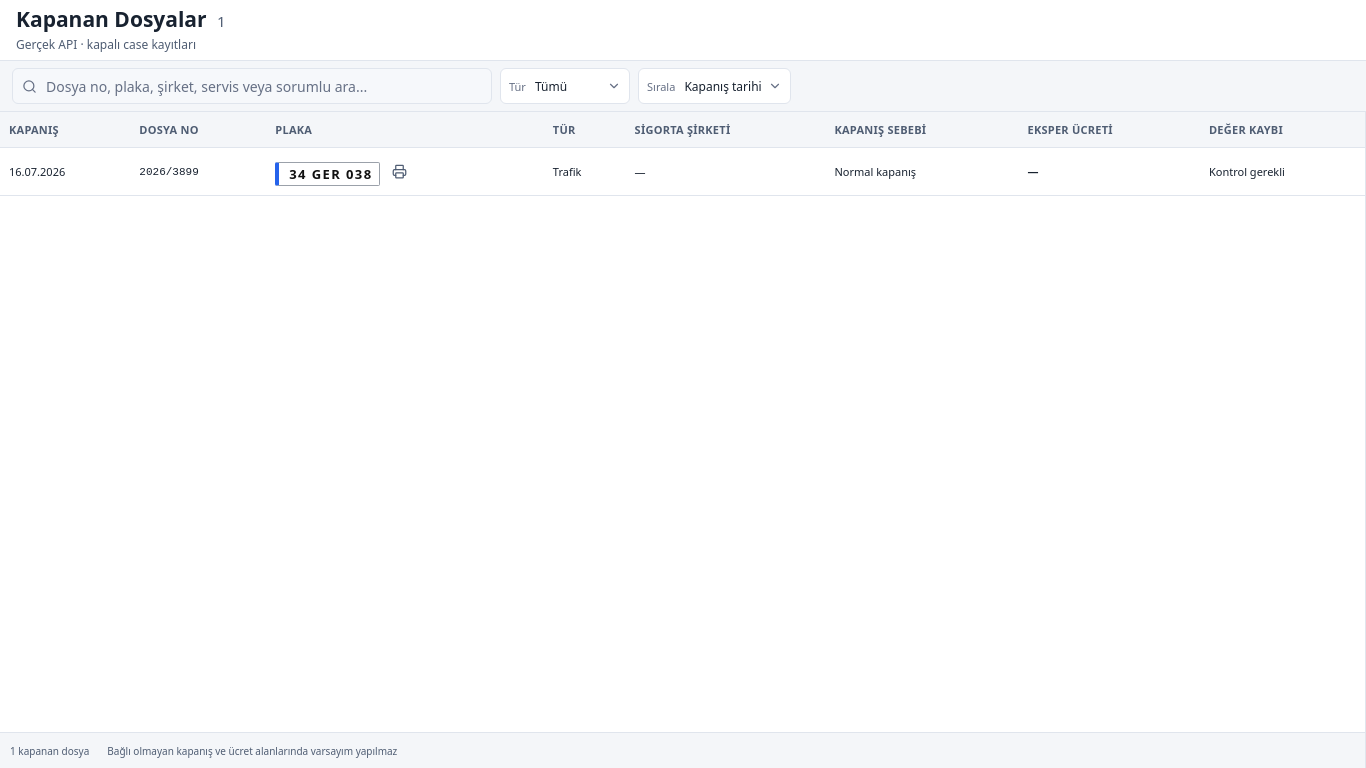
production truth sayfalari › Kapanan Dosyalar API modunda gercek closed case listesini kullanir ve eksik alan uydurmaz
This screenshot has width=1366, height=768.
Expected: the text "Normal kapanış" is shown, [826,148,1018,196]
What coordinates should you click on to do the following:
click the text "34 GER 038"
I would click on:
 (328, 174)
Its box is [275,162,380,186].
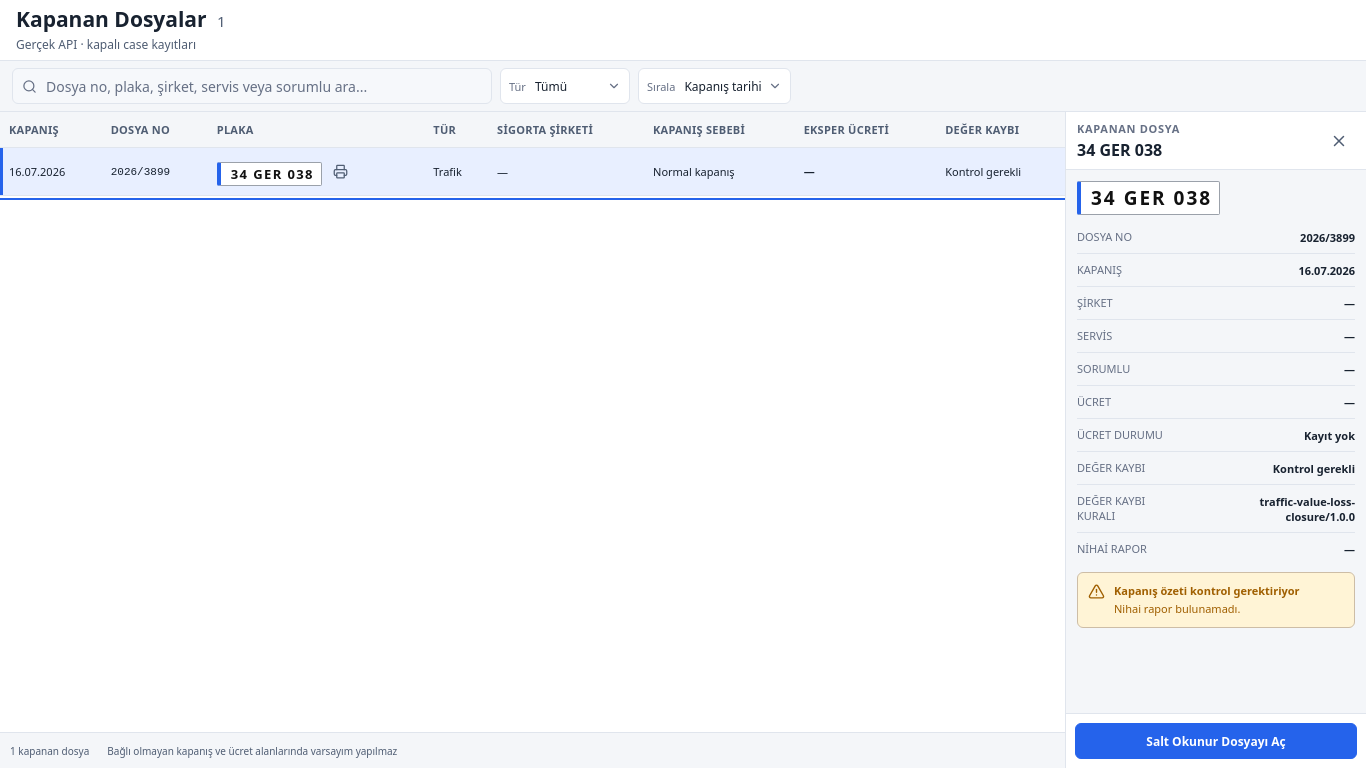
Expected: the text "Kontrol gerekli" is shown, [936,148,1065,196]
Now the text "Kapanış özeti kontrol gerektiriyor" is shown, box [1114,583,1300,598]
